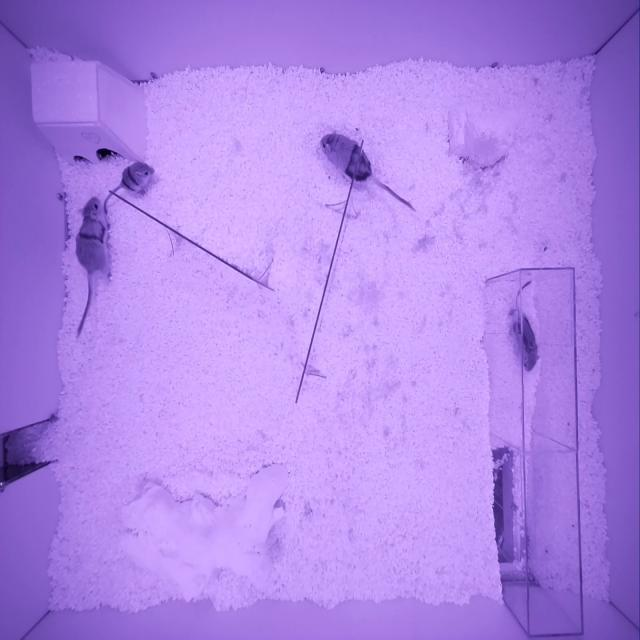adult_back: (320, 133, 372, 181)
adult_front: (75, 197, 107, 274)
pup_h_stripe: (122, 162, 151, 191)
pup_v_stripe: (512, 316, 539, 372)
